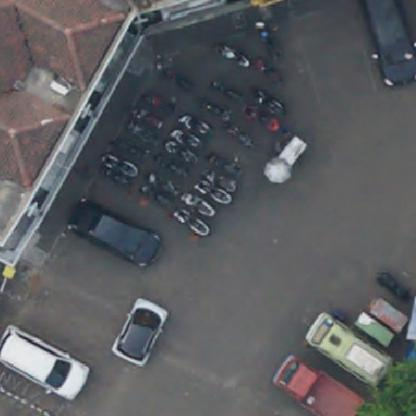car: (63, 196, 165, 272), (0, 325, 92, 401), (358, 0, 415, 95), (114, 297, 166, 366)
motorcycle: (255, 22, 289, 60), (156, 63, 192, 95), (157, 150, 189, 182), (176, 210, 211, 239), (166, 137, 204, 163), (227, 120, 257, 152), (216, 44, 256, 68), (252, 86, 286, 114), (245, 107, 280, 134), (140, 90, 177, 115), (201, 178, 234, 206), (255, 57, 286, 86), (210, 151, 243, 177), (139, 183, 172, 209), (102, 153, 138, 176), (200, 98, 234, 122), (128, 118, 157, 146), (97, 166, 132, 189), (132, 105, 165, 129), (180, 112, 213, 136), (182, 191, 214, 215), (147, 172, 179, 195), (205, 172, 242, 191), (211, 82, 245, 101), (173, 126, 203, 147)
truck: (307, 311, 395, 393), (272, 351, 367, 415)
